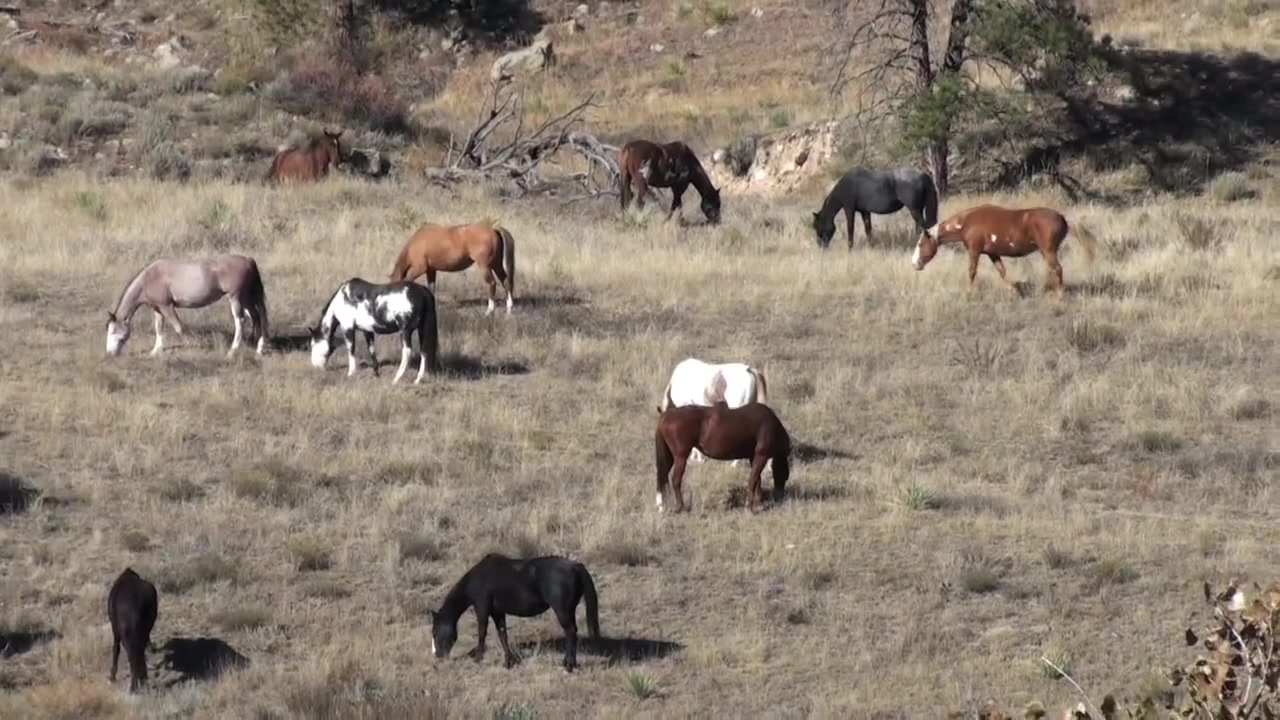horse: (429, 553, 610, 677)
